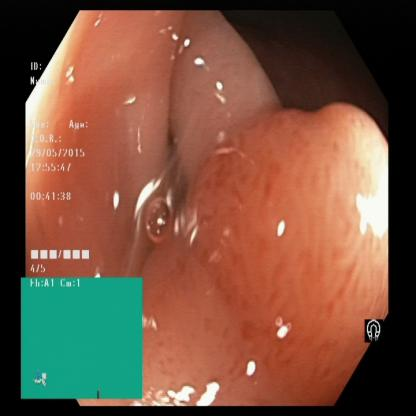Labels: (27, 53, 107, 274), (23, 276, 142, 398), (351, 313, 395, 351)
Polyps: (220, 122, 388, 311)
